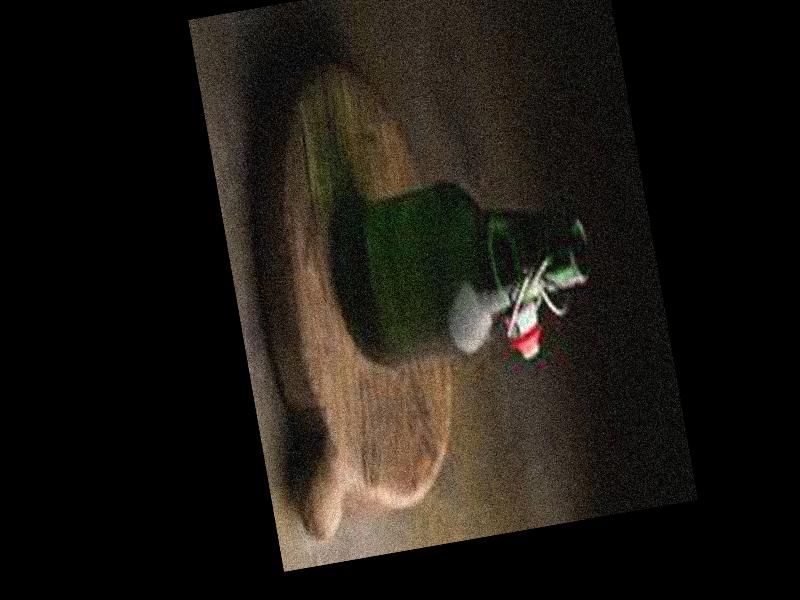Beer: (329, 166, 605, 371)
